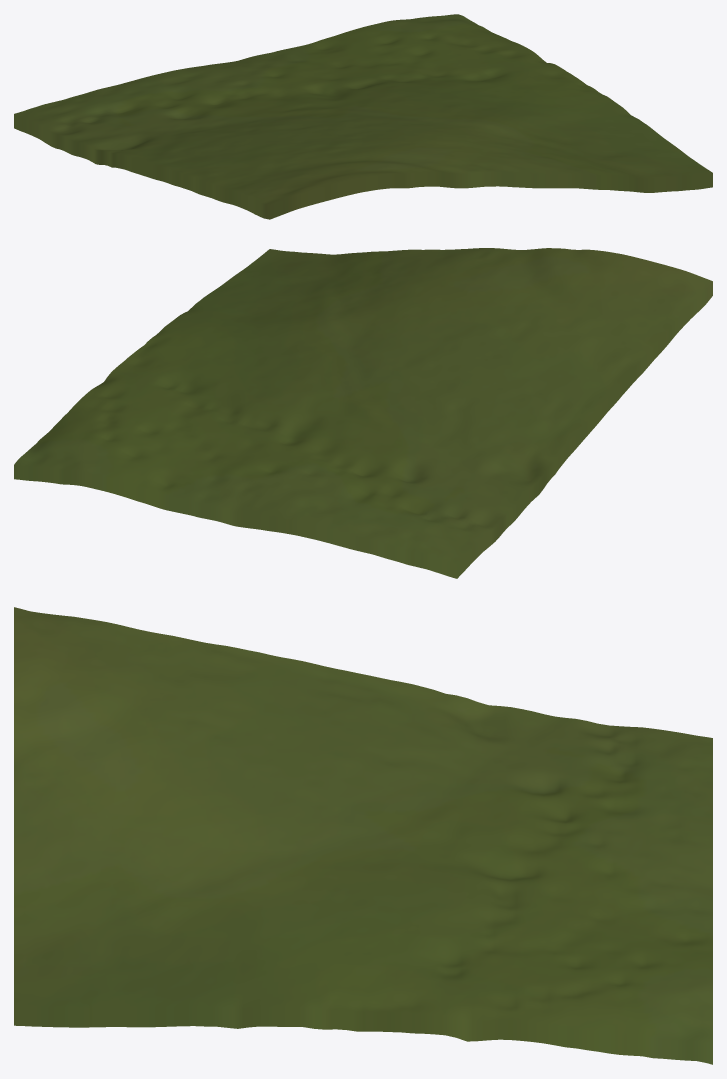
File: terrain_3_-7.glb
3 views of the same model, one above another, from view 1: azimuth 30°, elevation 25°; view 2: azimuth 150°, elevation 25°; view 3: azimuth 270°, elevation 25° (orthographic). The views are drawn at different scales.
Visible parts, largest first — view 1: terrain_3_-7; view 2: terrain_3_-7; view 3: terrain_3_-7.
Part boxes in pixels (x1=…): terrain_3_-7: x1=14, y1=14, x2=712, y2=219; terrain_3_-7: x1=14, y1=248, x2=712, y2=578; terrain_3_-7: x1=14, y1=607, x2=712, y2=1064.
Size of the model in its own units: 256 by 68.43 by 256.
